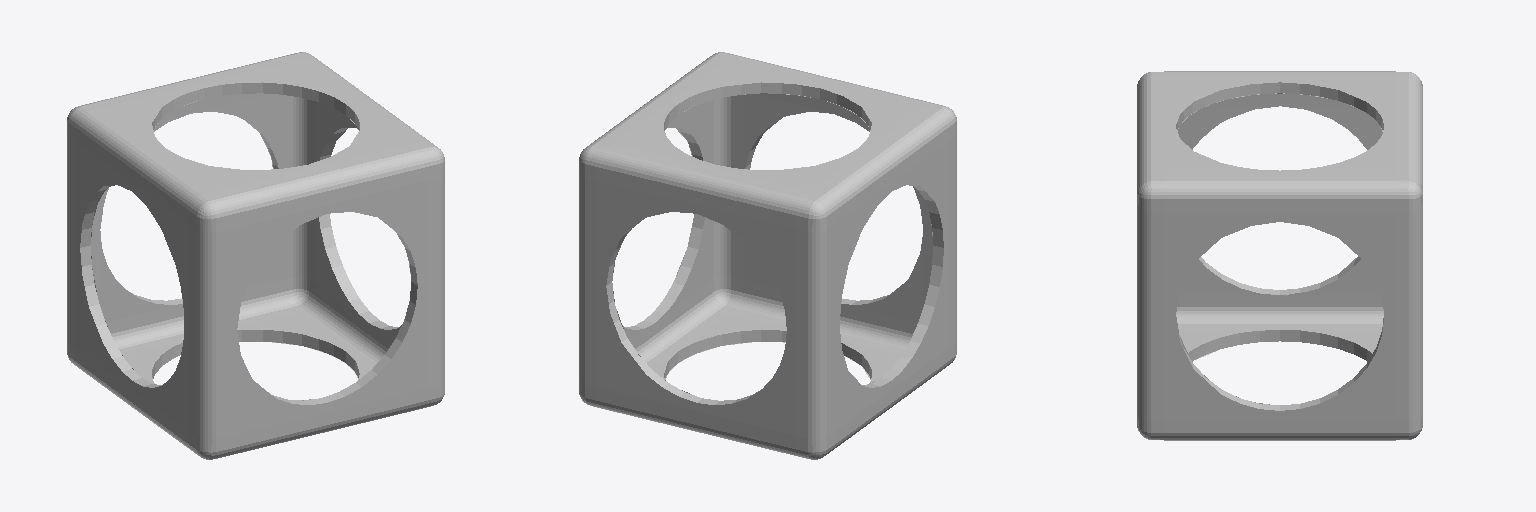
File: basicbox.obj
3 views of the same model, side by side, from view 1: azimuth 30°, elevation 25°; view 2: azimuth 150°, elevation 25°; view 3: azimuth 270°, elevation 25° (orthographic).
Visible parts, largest first — view 1: MainCube_Cube.001; view 2: MainCube_Cube.001; view 3: MainCube_Cube.001.
Boxes of the visible parts, box(x1,y1,x2,y2) form: MainCube_Cube.001: box(67, 52, 444, 459); MainCube_Cube.001: box(579, 52, 956, 459); MainCube_Cube.001: box(1137, 71, 1422, 440).
Size of the model in its own units: 1 by 1 by 1.